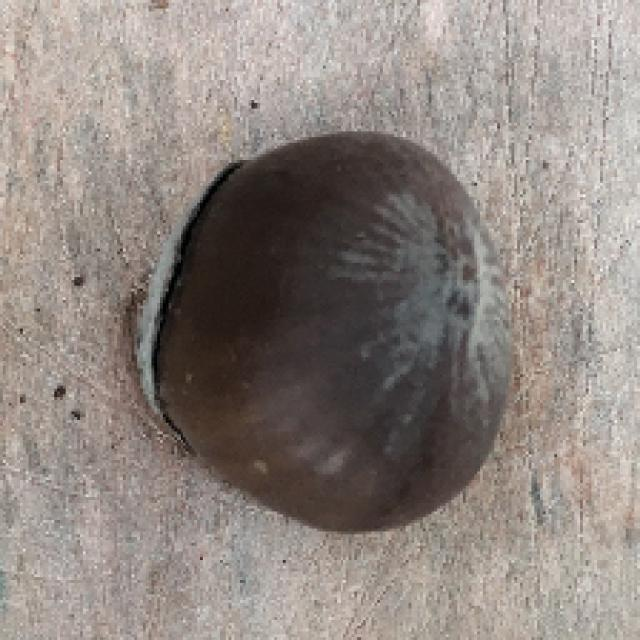damagedHazelnut: (133, 124, 521, 544)
